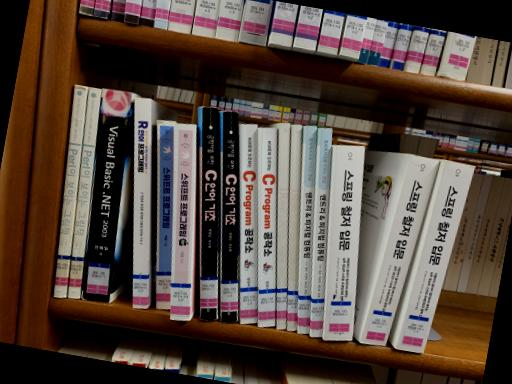book-spine: (394, 160, 475, 353), (360, 154, 440, 346), (81, 88, 132, 303), (325, 145, 365, 340), (53, 84, 87, 298), (68, 86, 101, 298), (170, 123, 196, 321), (311, 127, 332, 337), (298, 125, 317, 334), (132, 98, 150, 308), (156, 120, 175, 309), (259, 128, 277, 326), (201, 106, 217, 321), (241, 124, 258, 324), (222, 111, 238, 322), (286, 125, 302, 331), (277, 123, 290, 329)
